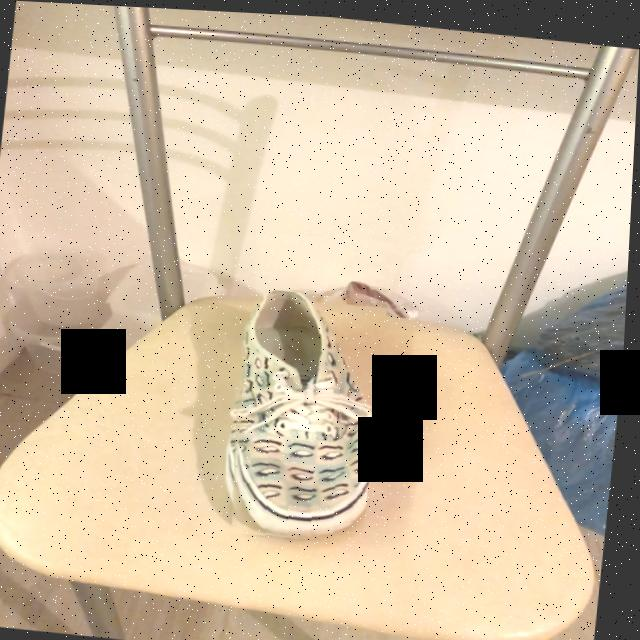shoe: (238, 288, 379, 536)
